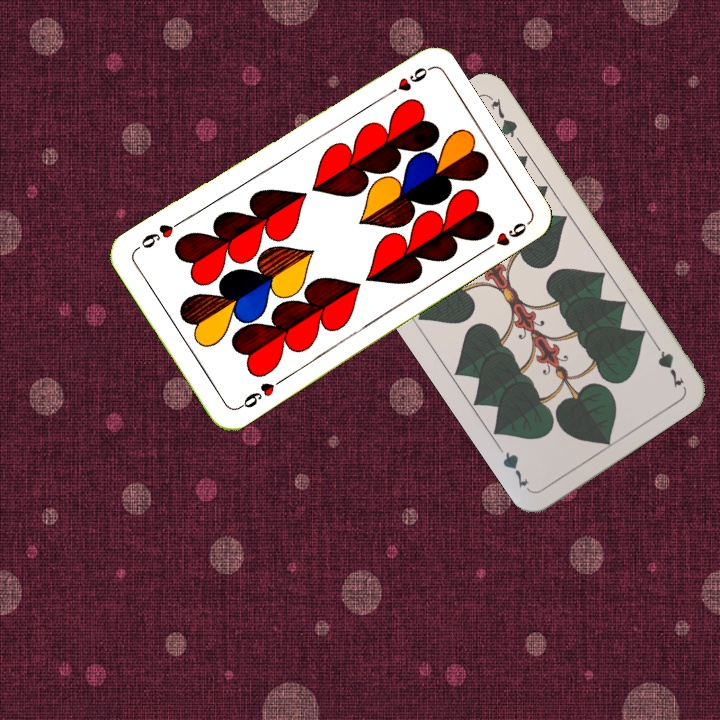G7: (647, 335, 687, 391)
H9: (233, 375, 286, 413), (378, 63, 431, 101)
